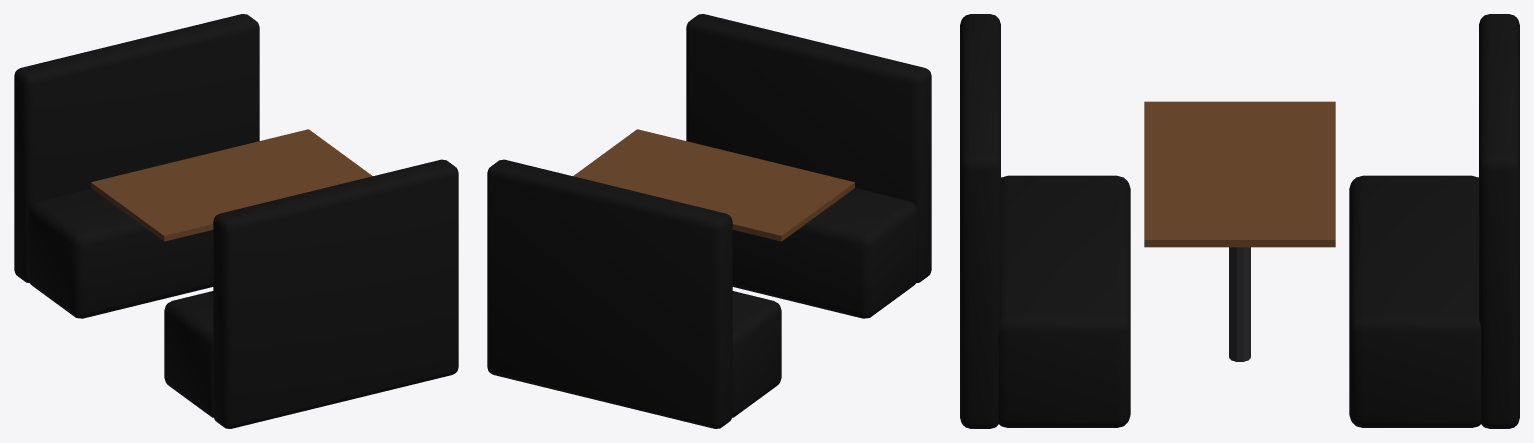
File: hospitality.dining.booth.glb
The picture shows the model from 3 angles, left to right: view 1: azimuth 30°, elevation 25°; view 2: azimuth 150°, elevation 25°; view 3: azimuth 270°, elevation 25°; orthographic projection. The views are drawn at different scales.
Parts seen in each view (by area): view 1: main__leather_black, main__hardwood; view 2: main__leather_black, main__hardwood; view 3: main__leather_black, main__hardwood, main__cast_iron.
Boxes of the visible parts, bbox=[...] form: main__leather_black: bbox=[14, 14, 458, 428]; main__hardwood: bbox=[91, 129, 372, 241]; main__leather_black: bbox=[487, 14, 931, 428]; main__hardwood: bbox=[573, 129, 854, 241]; main__leather_black: bbox=[960, 14, 1519, 428]; main__hardwood: bbox=[1144, 101, 1335, 247]; main__cast_iron: bbox=[1229, 247, 1250, 361].
Bounding box in the file's own units: 1.3 × 1.1 × 2.05.
